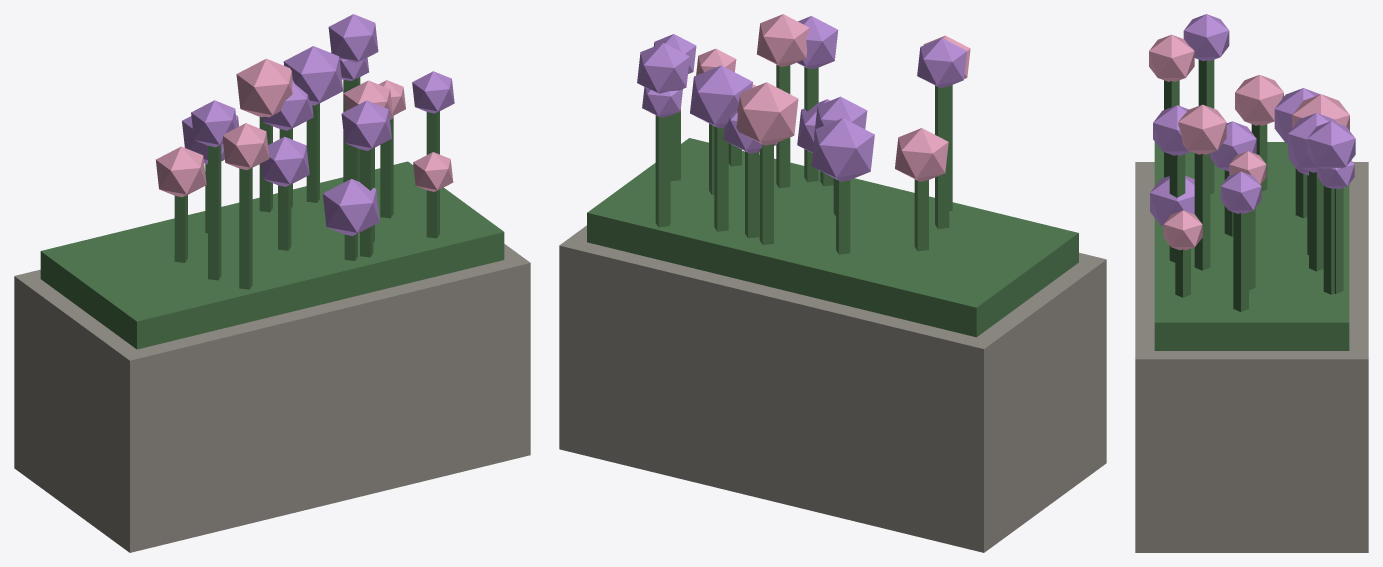
File: planter.glb
The picture shows the model from 3 angles, left to right: view 1: azimuth 30°, elevation 25°; view 2: azimuth 150°, elevation 25°; view 3: azimuth 270°, elevation 25°; orthographic projection. The views are drawn at different scales.
Parts seen in each view (by area): view 1: planter; view 2: planter; view 3: planter.
Boxes of the visible parts, <box> form: planter: <box>14,14,530,552</box>; planter: <box>559,14,1106,552</box>; planter: <box>1135,14,1368,552</box>.
Size of the model in its own units: 1.2 by 1.14 by 0.6.
